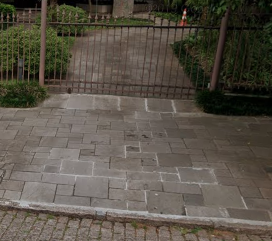vag19: (2, 161, 269, 236)
